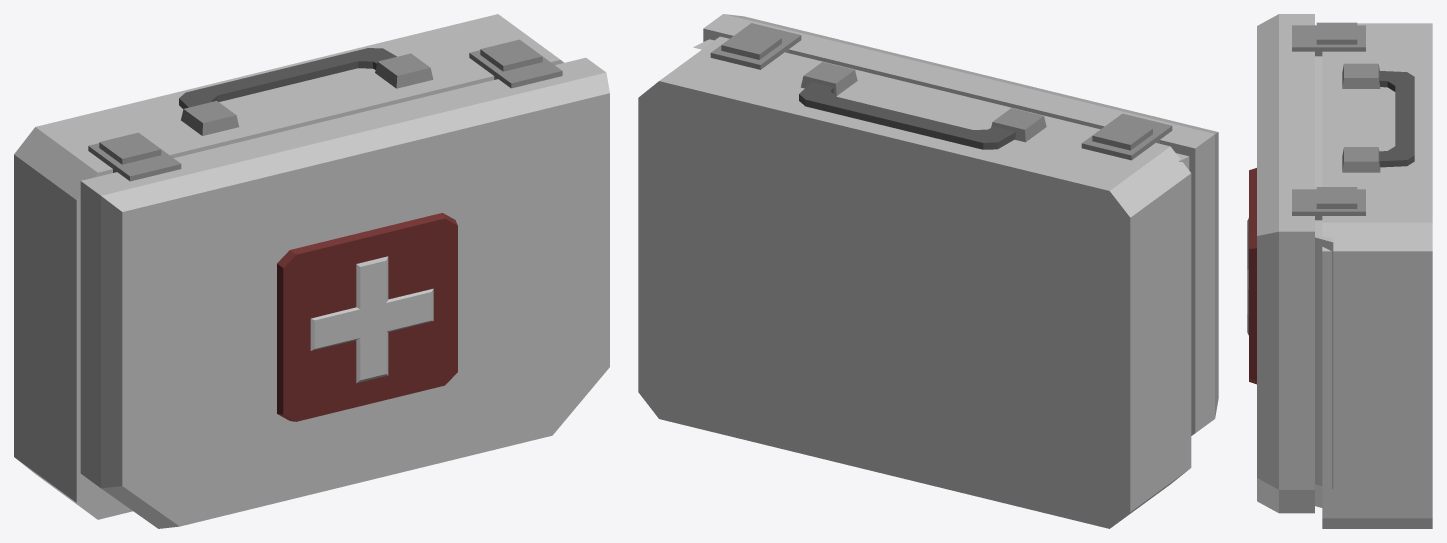
File: quaternius-survival-first-aid-kit-hard.glb
3 renders of one model, left to right at view 1: azimuth 30°, elevation 25°; view 2: azimuth 150°, elevation 25°; view 3: azimuth 270°, elevation 25°, orthographic. The views are drawn at different scales.
Parts seen in each view (by area): view 1: FirstAidKit_Hard; view 2: FirstAidKit_Hard; view 3: FirstAidKit_Hard.
Boxes of the visible parts, x1,y1,x2,y2 form: FirstAidKit_Hard: [14, 14, 609, 528]; FirstAidKit_Hard: [638, 14, 1218, 528]; FirstAidKit_Hard: [1247, 14, 1432, 528].
Bounding box in the file's own units: 1.88 × 1.28 × 0.677.
